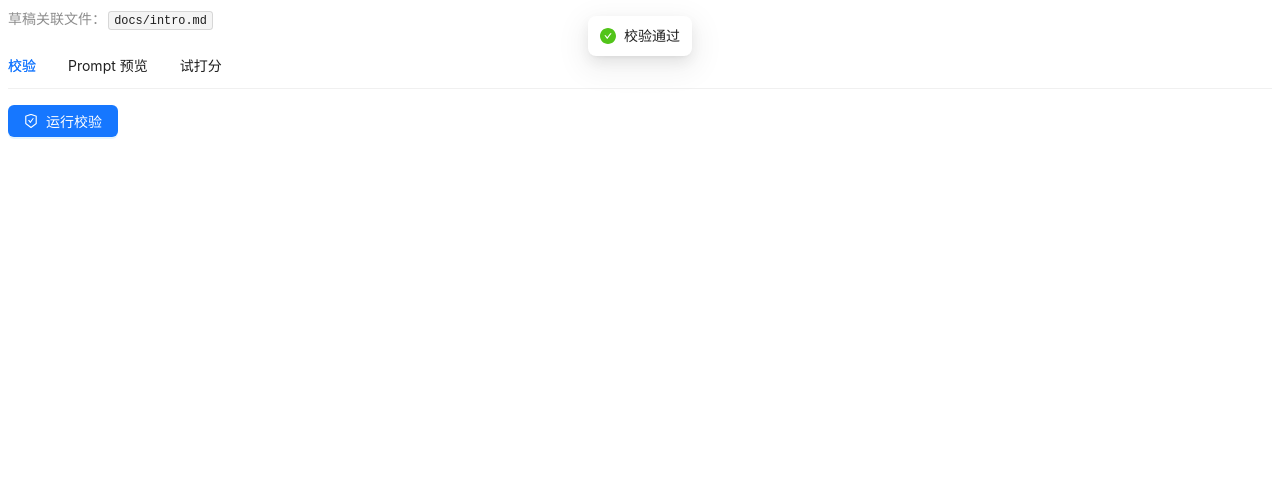
Test: KnowledgePreviewPanel › shows errors and warnings when validation fails
The image size is (1280, 483).
Click the button "运行校验": {"x": 63, "y": 121} [8,105,118,137]
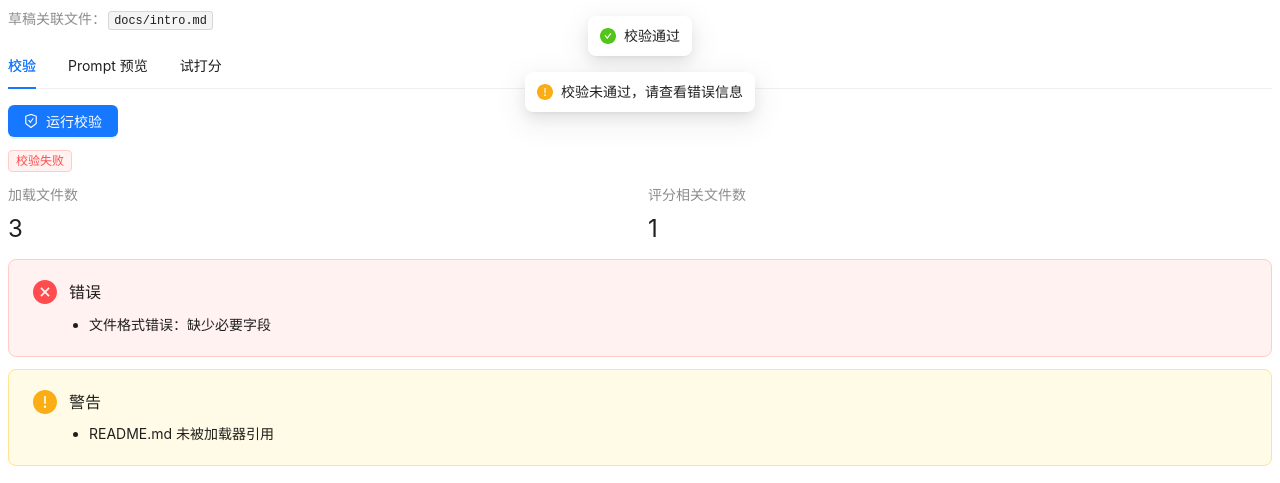
Result: the text "校验失败" is shown at [8,150,72,172]
Result: the list item "文件格式错误：缺少必要字段" is shown at [89,316,271,332]
Result: the list item "README.md 未被加载器引用" is shown at [89,425,274,442]
